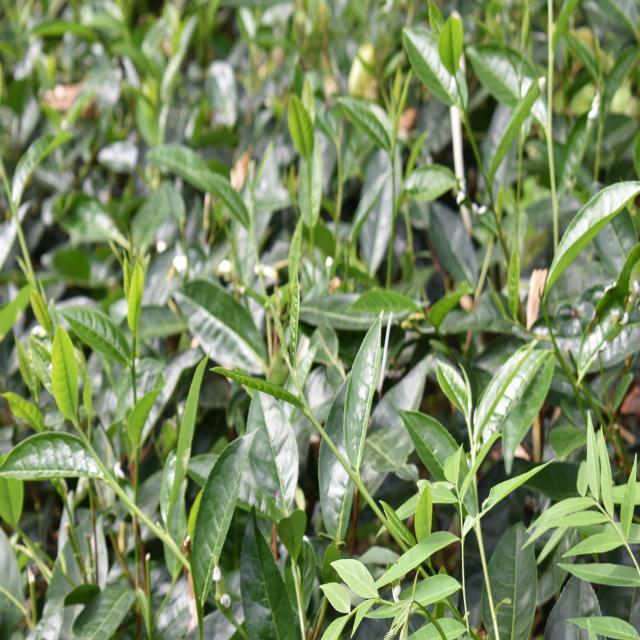Stem: (305, 408, 310, 416), (74, 421, 79, 426), (131, 365, 135, 369)
